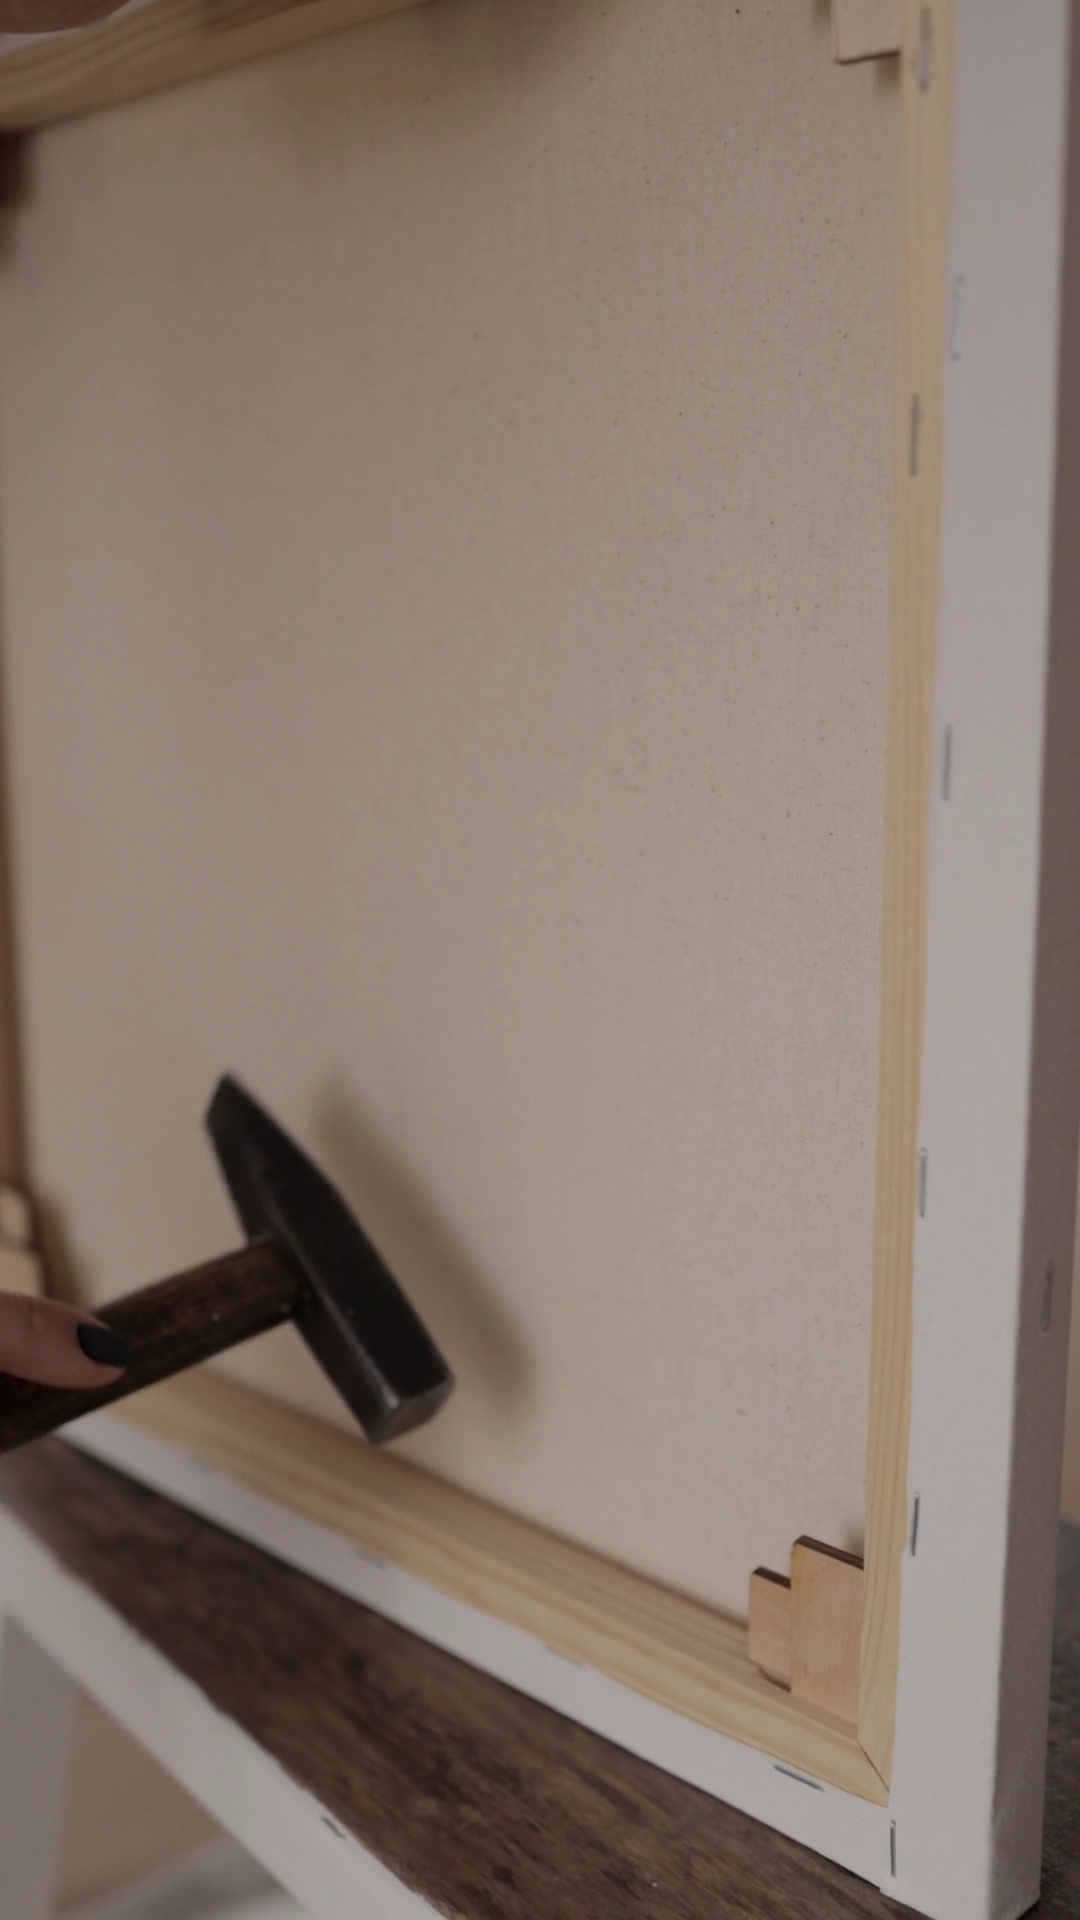hammer: (4, 1062, 462, 1505)
